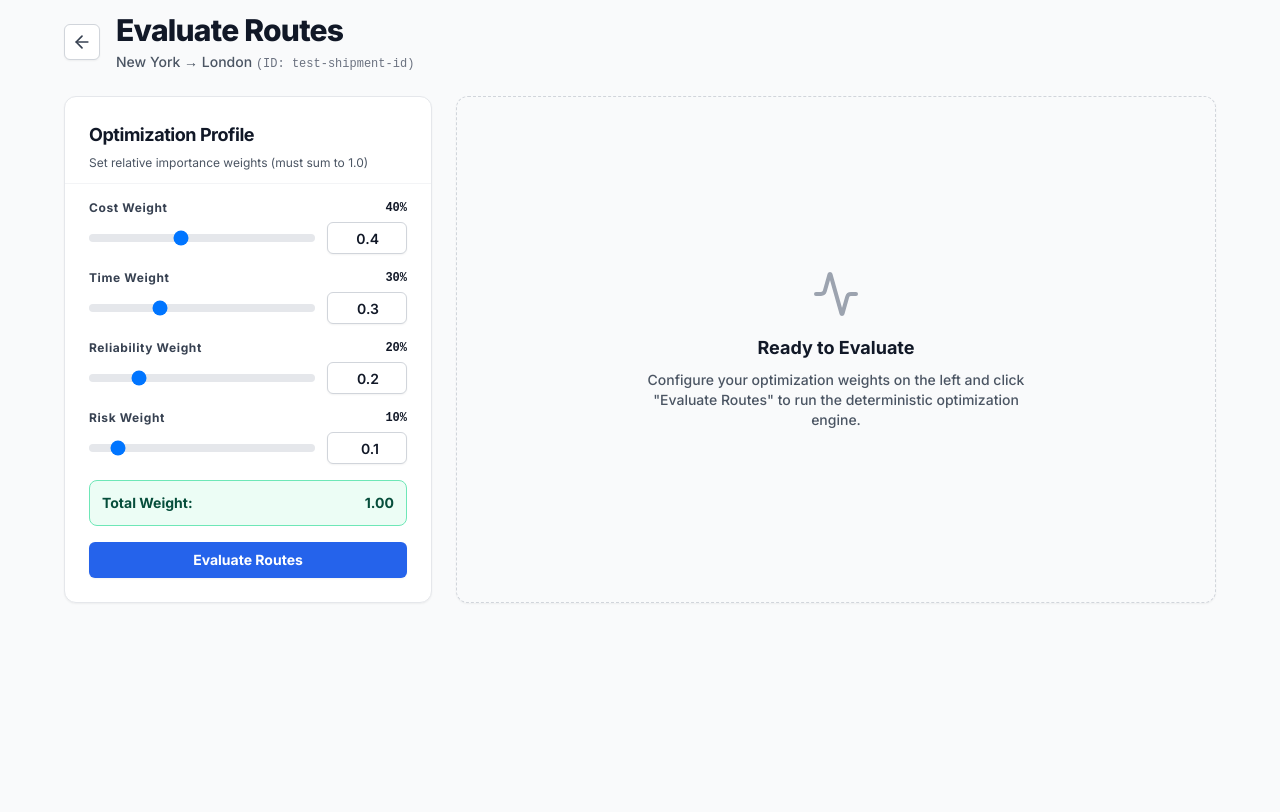
Scenario: EvaluatePage › validates weight sum
Replace the text in the number field labelled "cost Weight" with "0.9" at (367, 238), box [327,222,407,254]
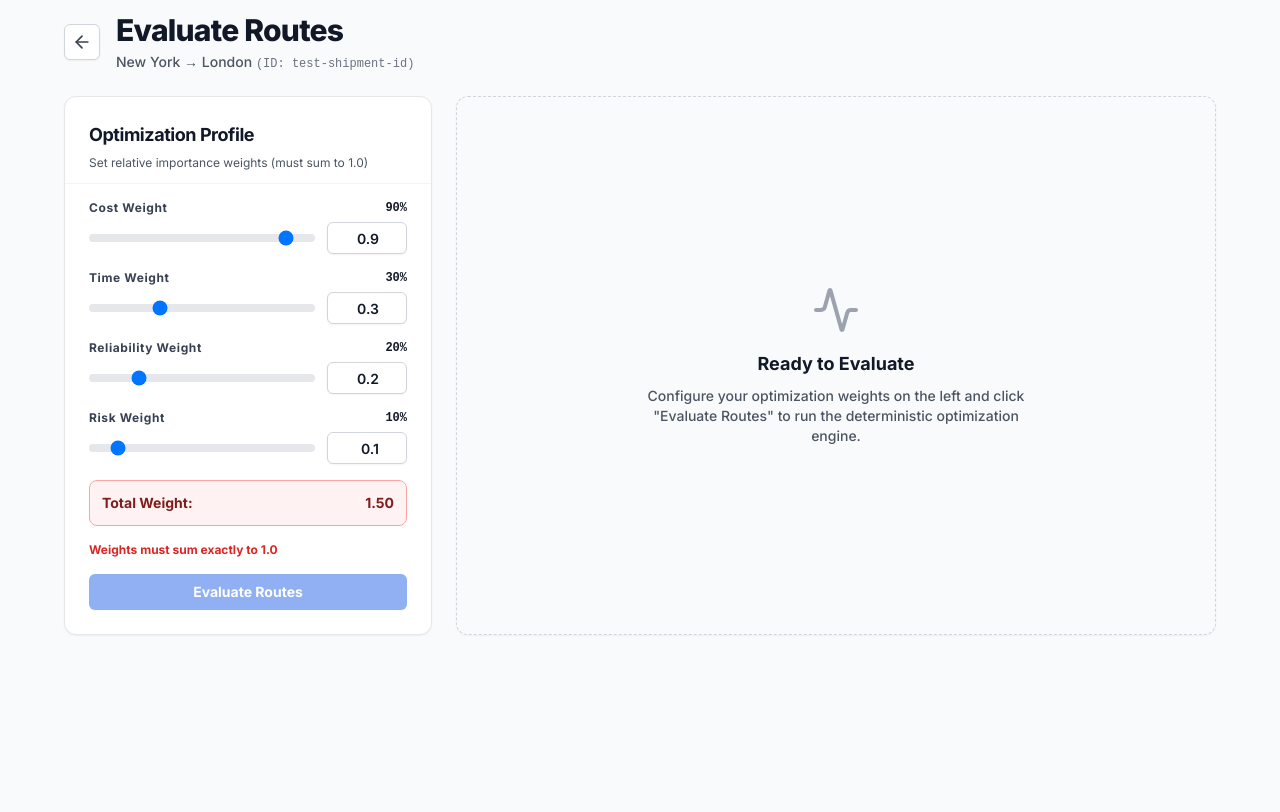
Check: the button "Evaluate Routes" is disabled, box [89,574,407,610]
